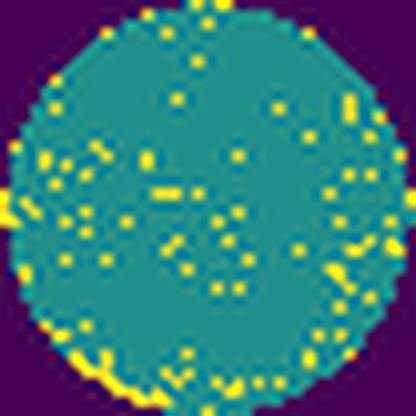Edge-Loc: (67, 345, 176, 413)
